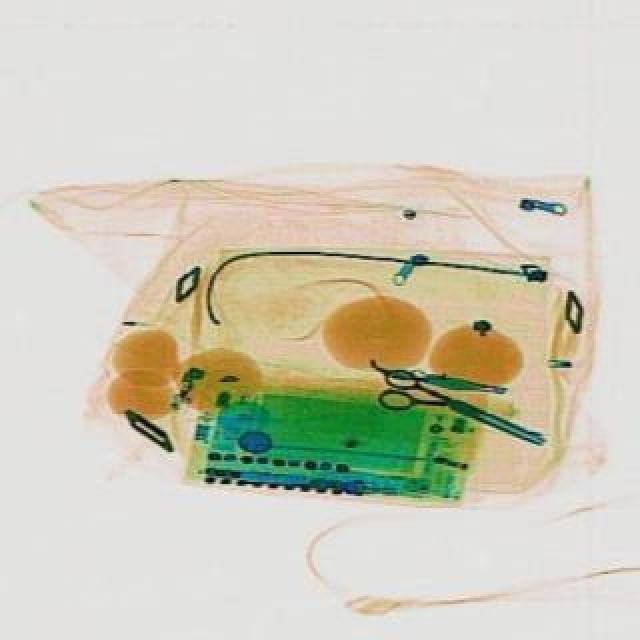pliers: (370, 364, 550, 458)
